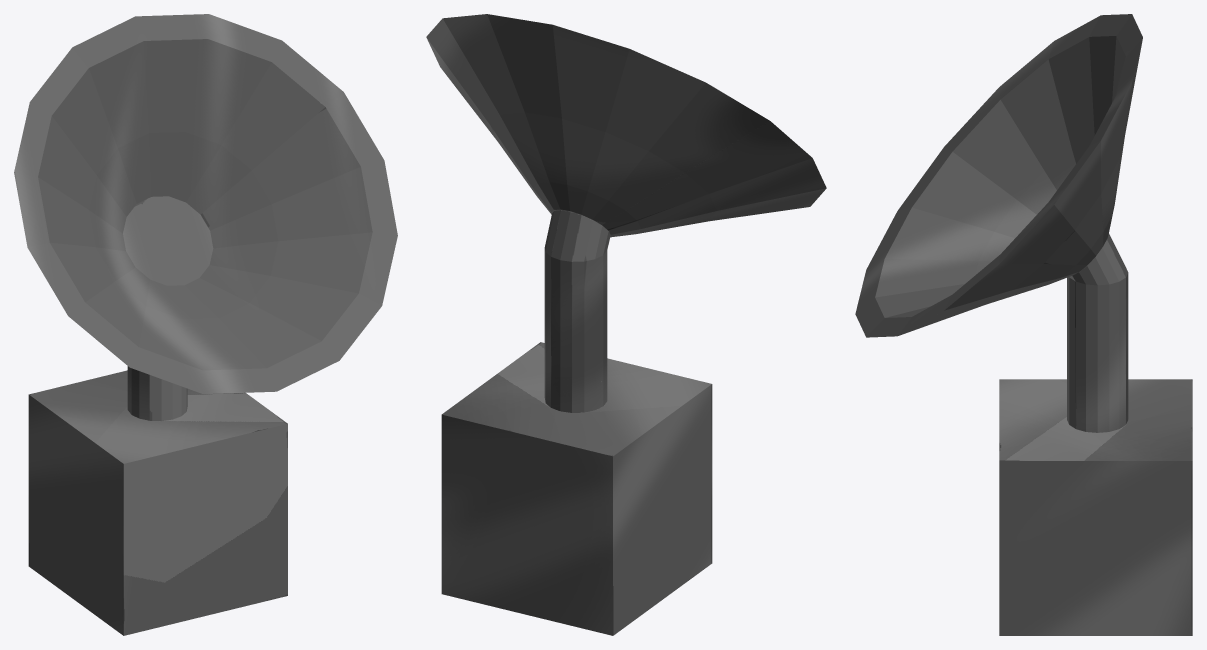
The model's file is Dish.fbx.
3 views of the same model, side by side, from view 1: azimuth 30°, elevation 25°; view 2: azimuth 150°, elevation 25°; view 3: azimuth 270°, elevation 25° (orthographic). The views are drawn at different scales.
Visible parts, largest first — view 1: Satelitedish; view 2: Satelitedish; view 3: Satelitedish.
Boxes of the visible parts, x1=… form: Satelitedish: x1=14, y1=14, x2=397, y2=635; Satelitedish: x1=426, y1=14, x2=826, y2=635; Satelitedish: x1=855, y1=14, x2=1192, y2=635.
Size of the model in its own units: 1367 by 2005 by 1099.
